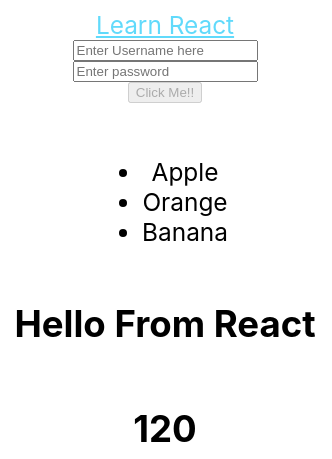
Scenario: button should not be disabled when input exists
The image size is (332, 459).
In the field with test id "username": (165, 50) [72,40,258,61], type "user"
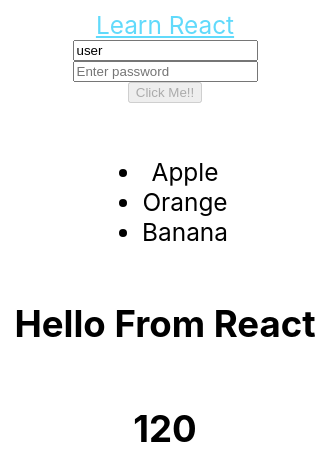
In the password field with test id "password": (165, 72) [72,61,258,82], type "pass"
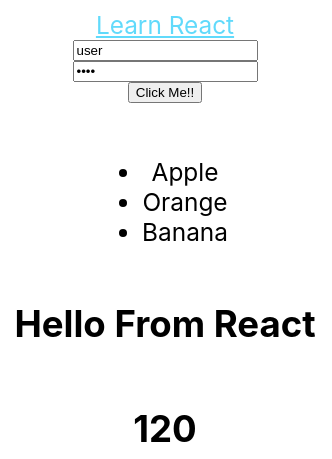
expect the button with test id "mybutton1" is enabled: met, box [128,82,202,103]
